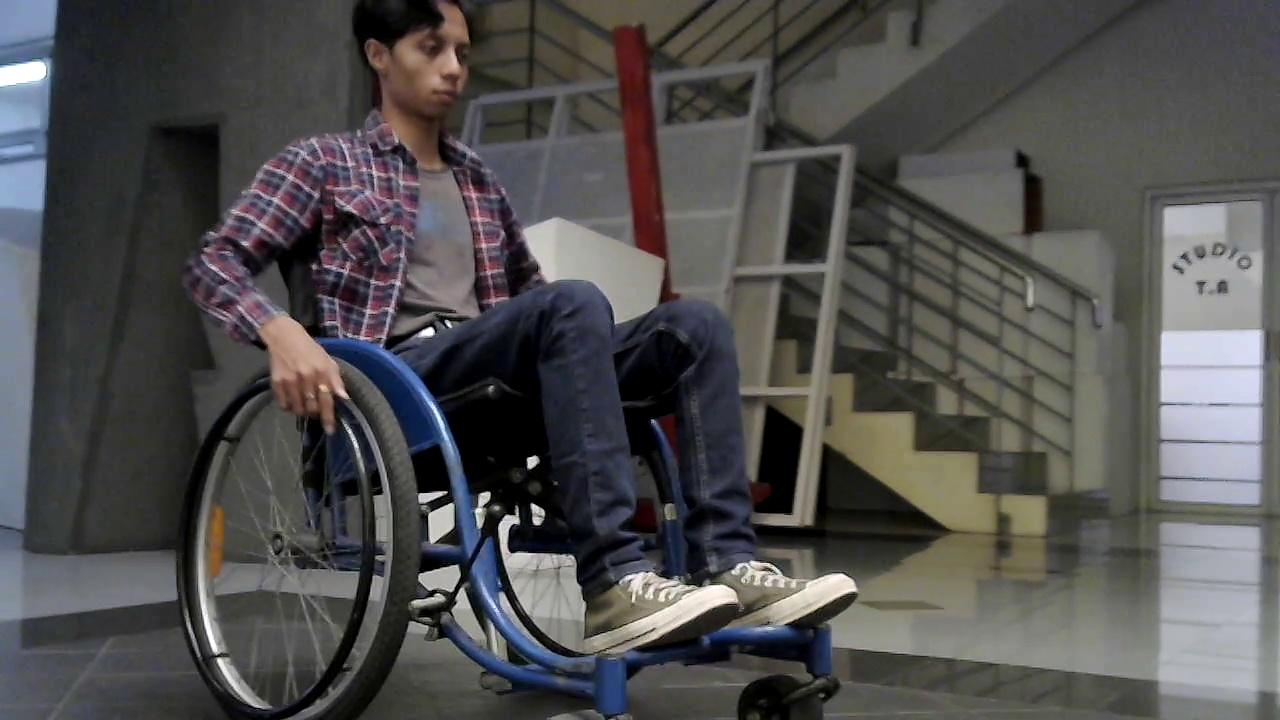person: (179, 3, 762, 646)
wheelchair: (160, 225, 890, 720)
